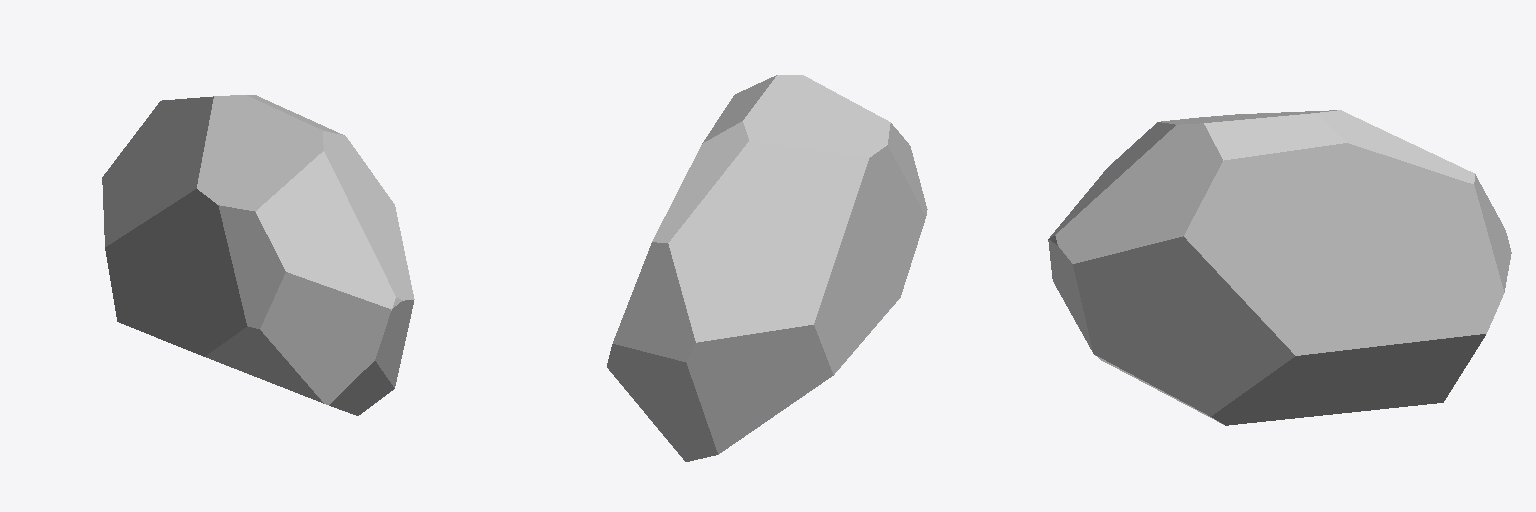
The model's file is rock04.obj.
3 views of the same model, side by side, from view 1: azimuth 30°, elevation 25°; view 2: azimuth 150°, elevation 25°; view 3: azimuth 270°, elevation 25° (orthographic).
Visible parts, largest first — view 1: Cube_Cube.002; view 2: Cube_Cube.002; view 3: Cube_Cube.002.
Boxes of the visible parts, x1,y1,x2,y2 form: Cube_Cube.002: [102, 95, 414, 415]; Cube_Cube.002: [607, 75, 927, 461]; Cube_Cube.002: [1048, 110, 1511, 425].
Size of the model in its own units: 6.73 by 9.23 by 13.21.